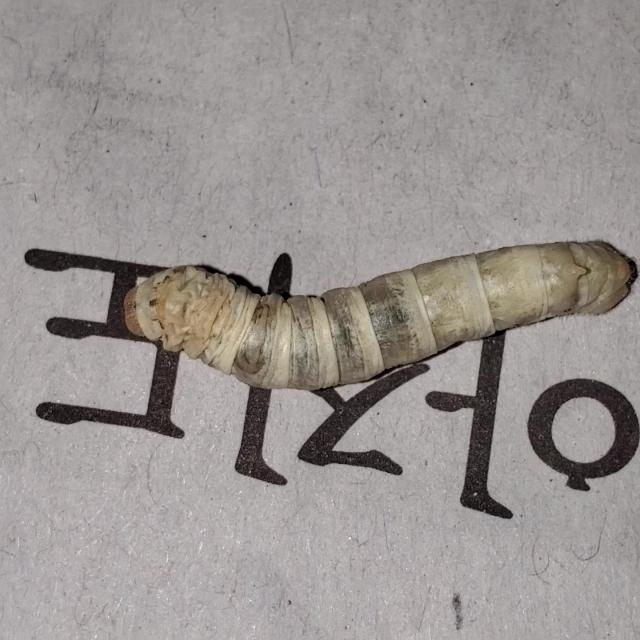Grasserie: (98, 192, 640, 428)
